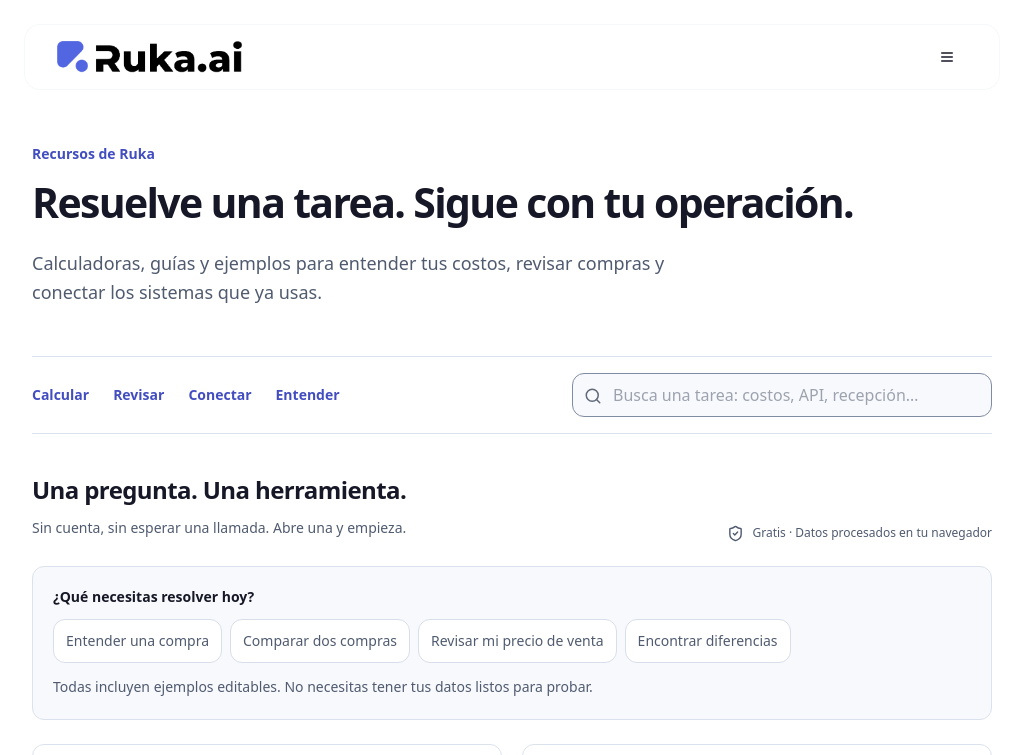
Test case: tool experience upgrade › places all four tools together and counts search results consistently
Type "margen" into the search field named "Buscar un recurso" at (782, 394), box left=572, top=372, right=992, bottom=416
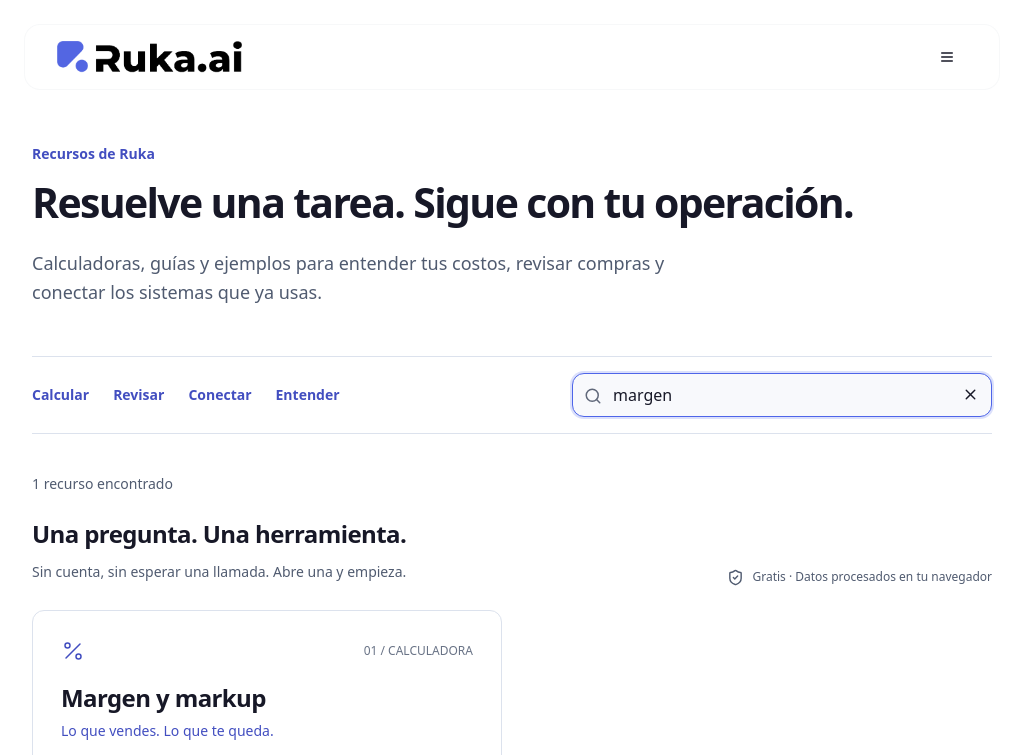
Now the message reads "1 recurso encontrado", box left=32, top=474, right=173, bottom=492
